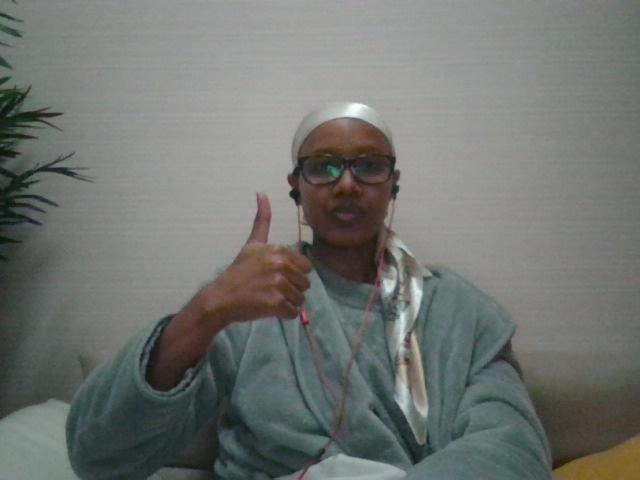goodjob: (195, 186, 319, 336)
